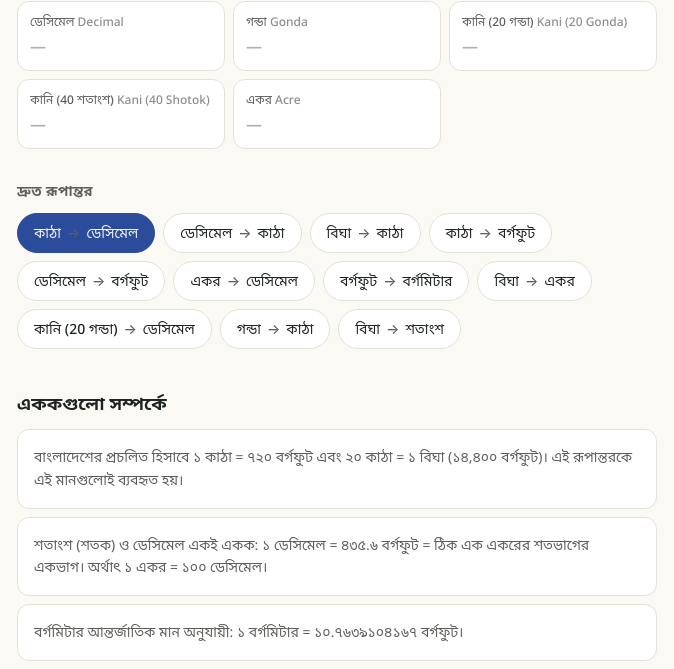
Test: bilingual captions (i18n fix verification) › captions follow the selected units, not just the default
(page scrolled)
Click the button "একর → ডেসিমেল" at point(244, 281), box [173, 261, 315, 301]
(page scrolled)
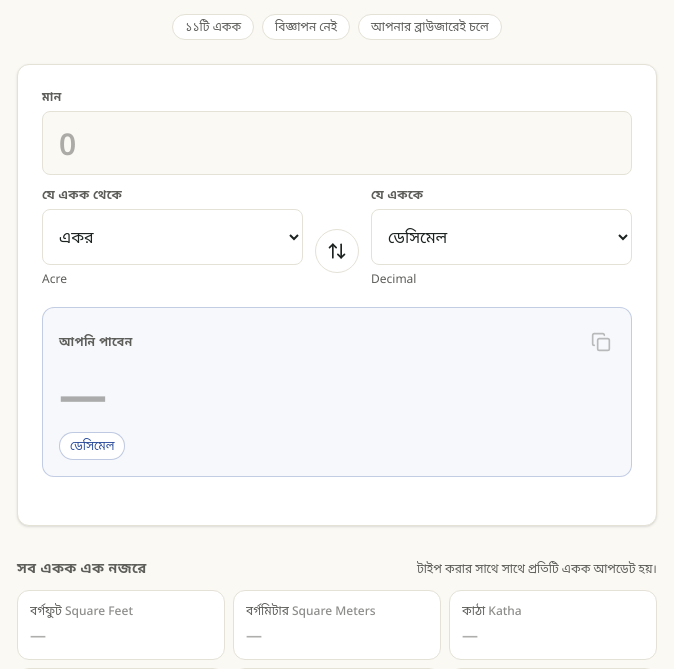
Check: the text "Decimal" is shown, box [371, 270, 416, 287]
Check: the text "Acre" is shown, box [42, 270, 67, 287]
